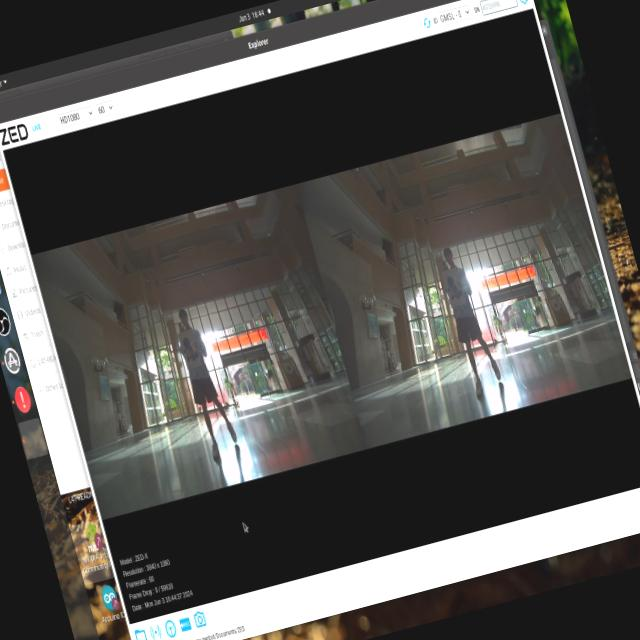blue: (178, 326, 206, 376), (442, 272, 465, 310)
